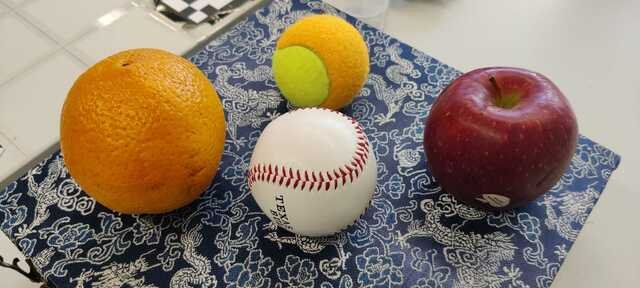013_apple: (424, 66, 578, 213)
017_orange: (60, 46, 226, 215)
055_baseball: (247, 106, 379, 237)
056_tennis_ball: (272, 13, 369, 109)
